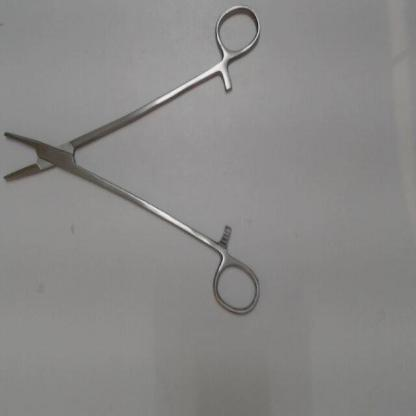8 Mayo Needle Holder: (0, 0, 270, 323)
